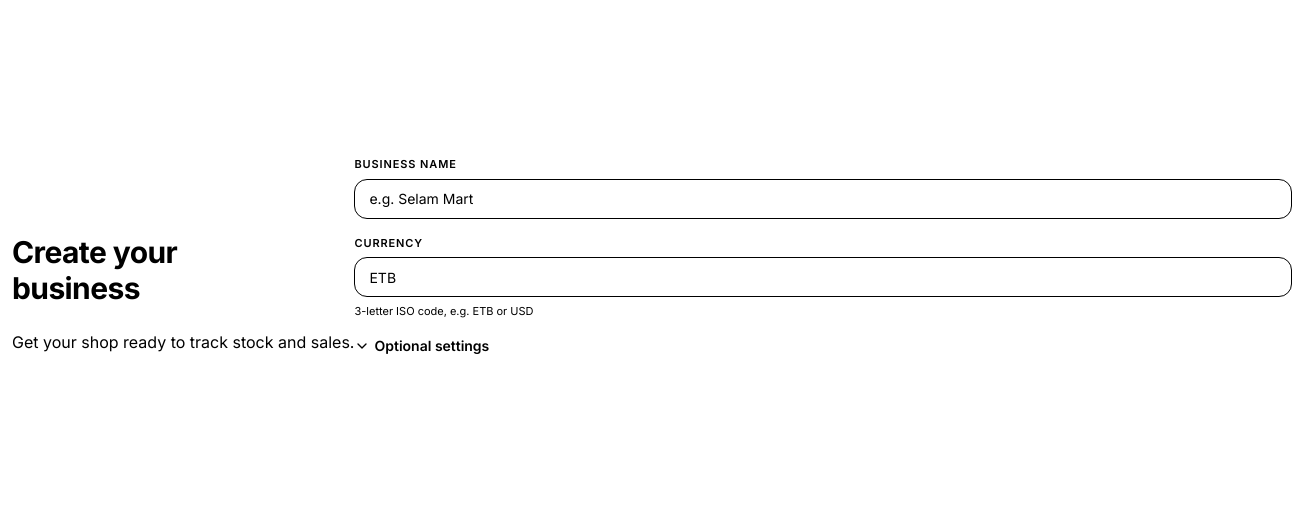
CreateBusinessPage › reveals optional fields when "Optional settings" is toggled
Click the button "Optional settings".
click(422, 346)  # box [354,336,489,356]
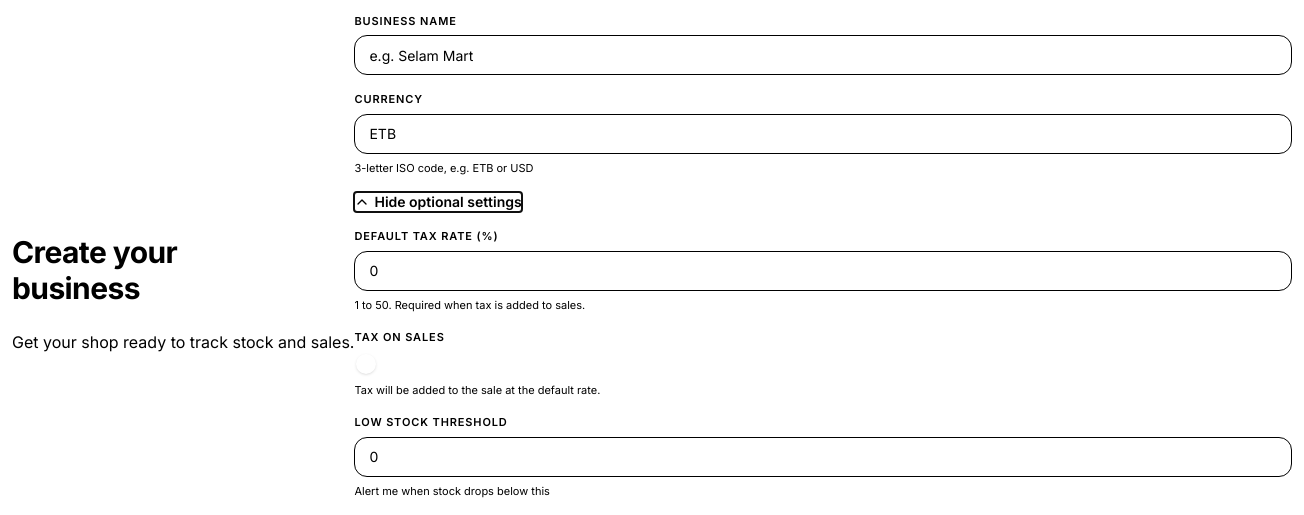
Check: the number field labelled "Default tax rate (%)" is shown, box [354,251,1292,291]
Check: the number field labelled "Low stock threshold" is shown, box [354,437,1292,477]
